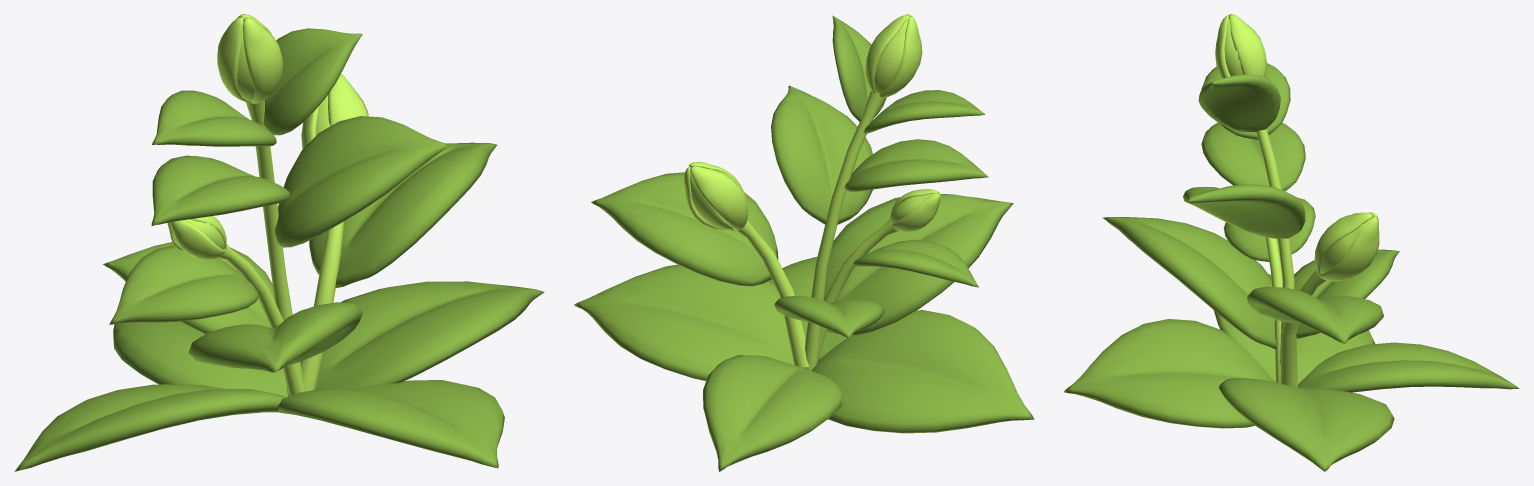
Rendered from Lily_1.fbx.
3 views of the same model, side by side, from view 1: azimuth 30°, elevation 25°; view 2: azimuth 150°, elevation 25°; view 3: azimuth 270°, elevation 25° (orthographic). The views are drawn at different scales.
Visible parts, largest first — view 1: Leaf.022, Leaf.024, Leaf.015, Leaf.019, Leaf.014, Leaf.020, Leaf.016, Leaf.025, Leaf.017, Leaf.018, Leaf.021, NurbsPath.023 (+8 smaller); view 2: Leaf.014, Leaf.022, Leaf.017, Leaf.016, Leaf.019, Leaf.024, Leaf.025, NurbsPath.023, Leaf.020, Leaf.023, Leaf.018, Leaf.021 (+10 smaller); view 3: Leaf.015, Leaf.022, Leaf.016, Leaf.017, Leaf.024, Leaf.019, Leaf.025, Leaf.018, Leaf.014, Leaf.023, Leaf.020, Plane.060 (+9 smaller).
Boxes of the visible parts, box(x1,y1,x2,y2) form: Leaf.022: box(315, 281, 544, 389); Leaf.024: box(274, 116, 449, 247); Leaf.015: box(277, 380, 504, 468); Leaf.019: box(309, 142, 496, 288); Leaf.014: box(14, 384, 286, 471); Leaf.020: box(109, 245, 258, 324); Leaf.016: box(188, 302, 362, 372); Leaf.025: box(151, 155, 290, 225); Leaf.017: box(113, 321, 287, 396); Leaf.018: box(263, 28, 362, 135); Leaf.021: box(152, 90, 276, 146); NurbsPath.023: box(246, 100, 303, 396); Leaf.014: box(811, 310, 1034, 433); Leaf.022: box(574, 264, 794, 380); Leaf.017: box(703, 355, 841, 471); Leaf.016: box(824, 194, 1013, 335); Leaf.019: box(591, 172, 778, 286); Leaf.024: box(771, 85, 872, 224); Leaf.025: box(844, 139, 988, 191); NurbsPath.023: box(803, 91, 885, 370); Leaf.020: box(853, 239, 978, 287); Leaf.023: box(774, 296, 884, 338); Leaf.018: box(832, 15, 886, 122); Leaf.021: box(863, 90, 984, 133); Leaf.015: box(1063, 319, 1273, 428); Leaf.022: box(1218, 378, 1394, 471); Leaf.016: box(1102, 217, 1276, 349); Leaf.017: box(1298, 342, 1519, 392); Leaf.024: box(1183, 184, 1305, 238); Leaf.019: box(1247, 286, 1383, 343); Leaf.025: box(1201, 123, 1305, 190); Leaf.018: box(1198, 74, 1280, 132); Leaf.014: box(1214, 274, 1375, 383); Leaf.023: box(1294, 249, 1399, 338); Leaf.020: box(1223, 197, 1315, 261); Plane.060: box(1319, 216, 1379, 281).
Size of the model in its own units: 0.6411 by 0.5829 by 0.5001.
